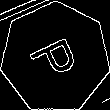P_NE: (25, 30, 85, 85)
